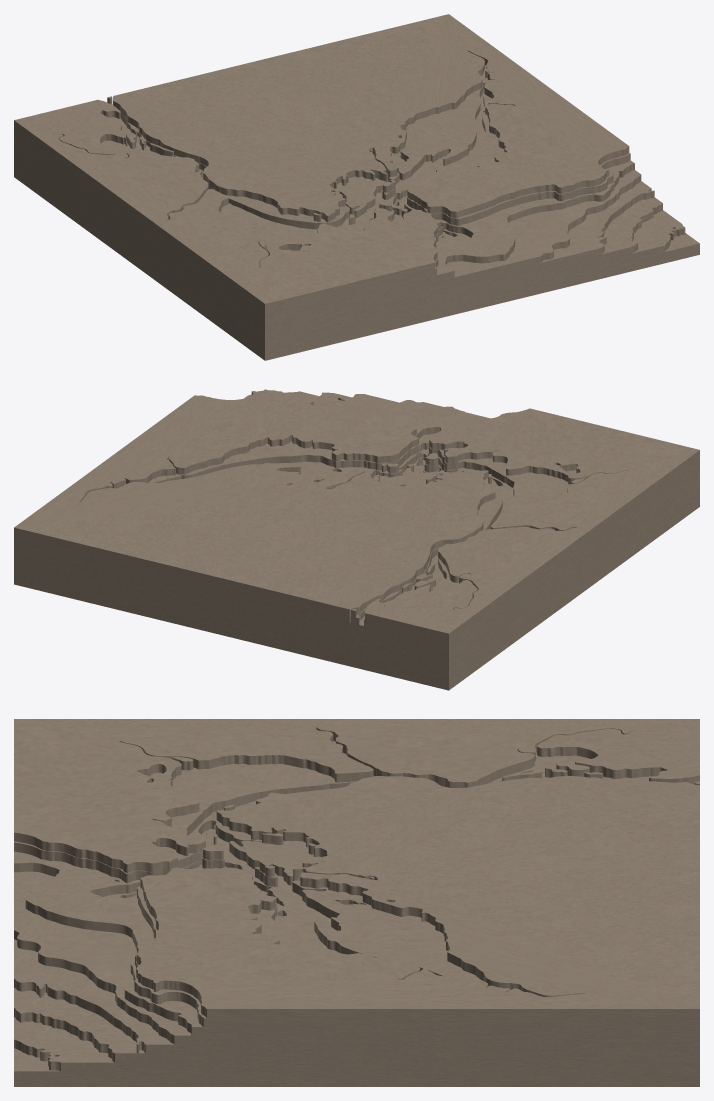
File: coaster-draco.0f381699.glb
3 renders of one model, top to bottom at view 1: azimuth 30°, elevation 25°; view 2: azimuth 150°, elevation 25°; view 3: azimuth 270°, elevation 25°, orthographic. The views are drawn at different scales.
Parts seen in each view (by area): view 1: coaster; view 2: coaster; view 3: coaster.
Boxes of the visible parts, box(x1,y1,x2,y2) form: coaster: box(14, 14, 699, 360); coaster: box(14, 389, 699, 690); coaster: box(14, 719, 699, 1086).
Size of the model in its own units: 102 by 12.71 by 102.
1 material, 1 textured.
